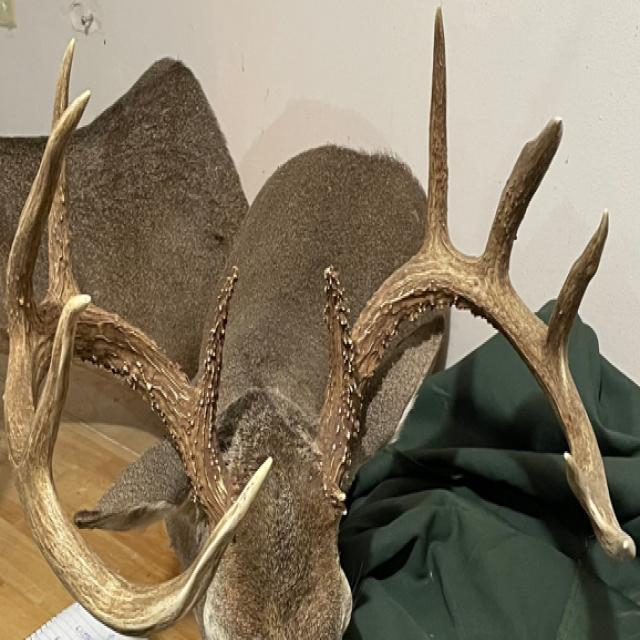L-F: (311, 254, 639, 564)
L-G1: (321, 260, 358, 398)
L-G2: (414, 5, 458, 254)
L-G3: (480, 113, 564, 284)
L-G4: (548, 205, 611, 368)
R-G1: (191, 262, 242, 428)
R-G3: (5, 86, 95, 339)
R-G4: (26, 291, 92, 475)
